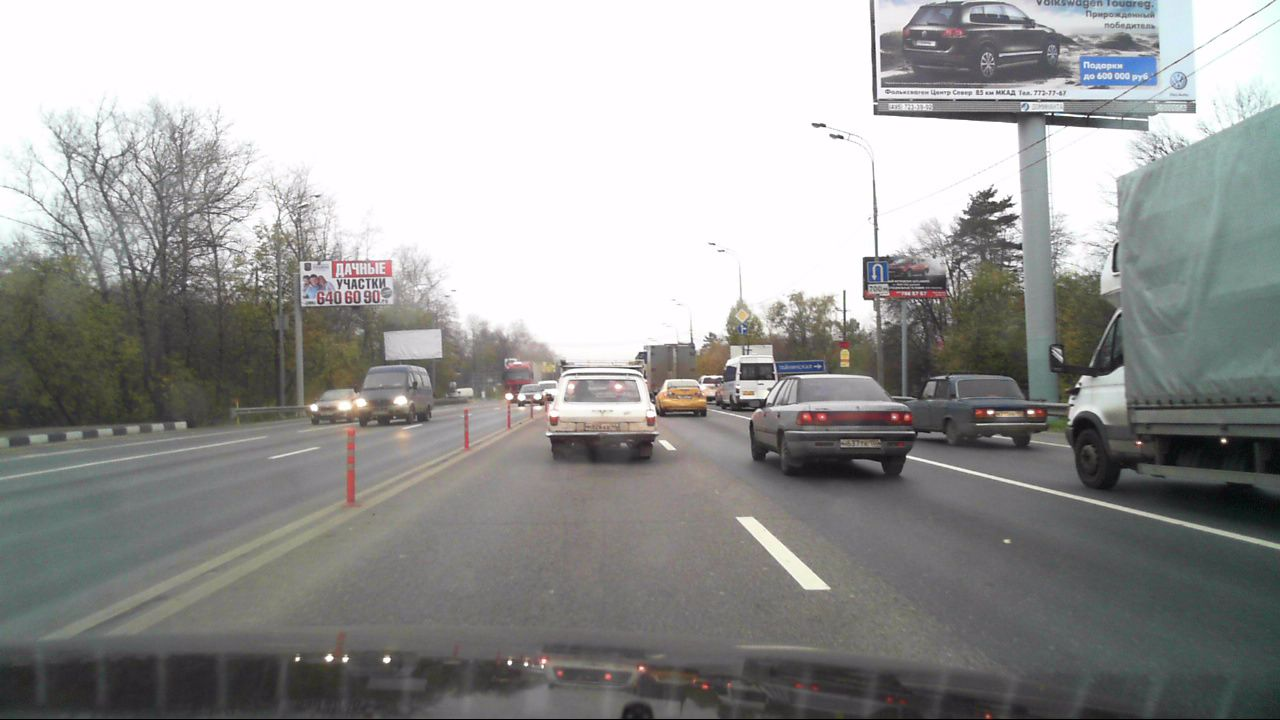U-turn: (867, 262, 888, 282)
